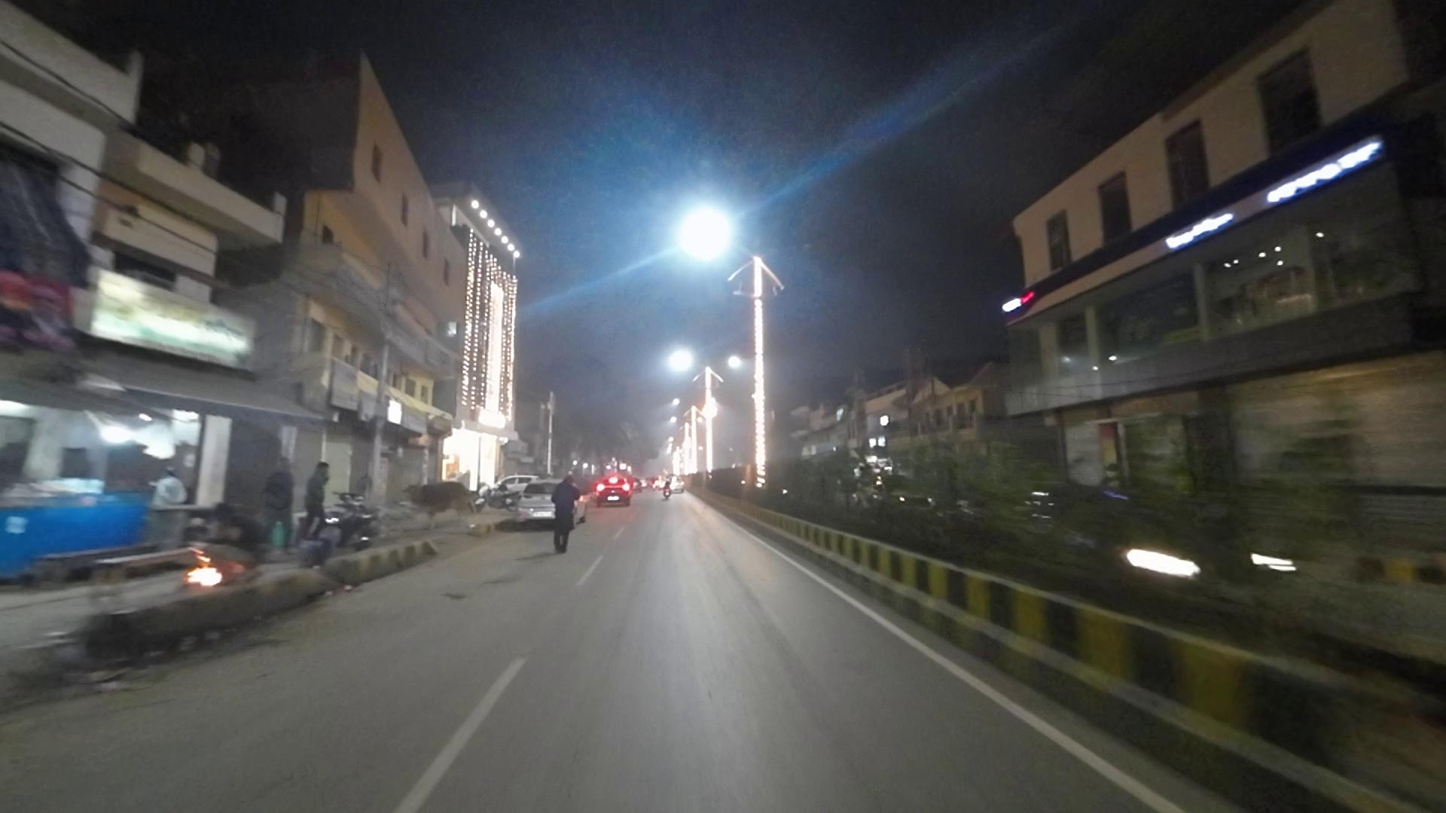streetlight: (760, 243, 812, 256)
